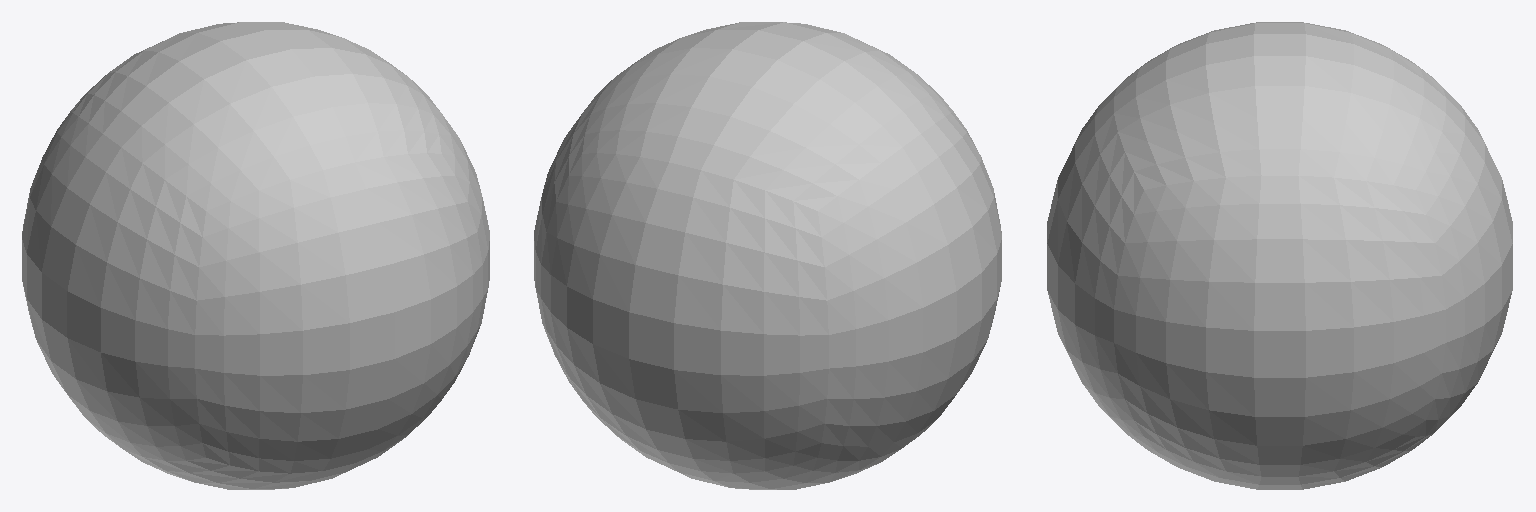
Rendered from sun.obj.
The picture shows the model from 3 angles: view 1: azimuth 30°, elevation 25°; view 2: azimuth 150°, elevation 25°; view 3: azimuth 270°, elevation 25°; orthographic projection.
Parts seen in each view (by area): view 1: Cube; view 2: Cube; view 3: Cube.
Part boxes in pixels (x1,y1,x2,y2): Cube: (22,22,489,489); Cube: (534,22,1001,489); Cube: (1047,22,1512,489).
Bounding box in the file's own units: 2.54 × 2.54 × 2.54.